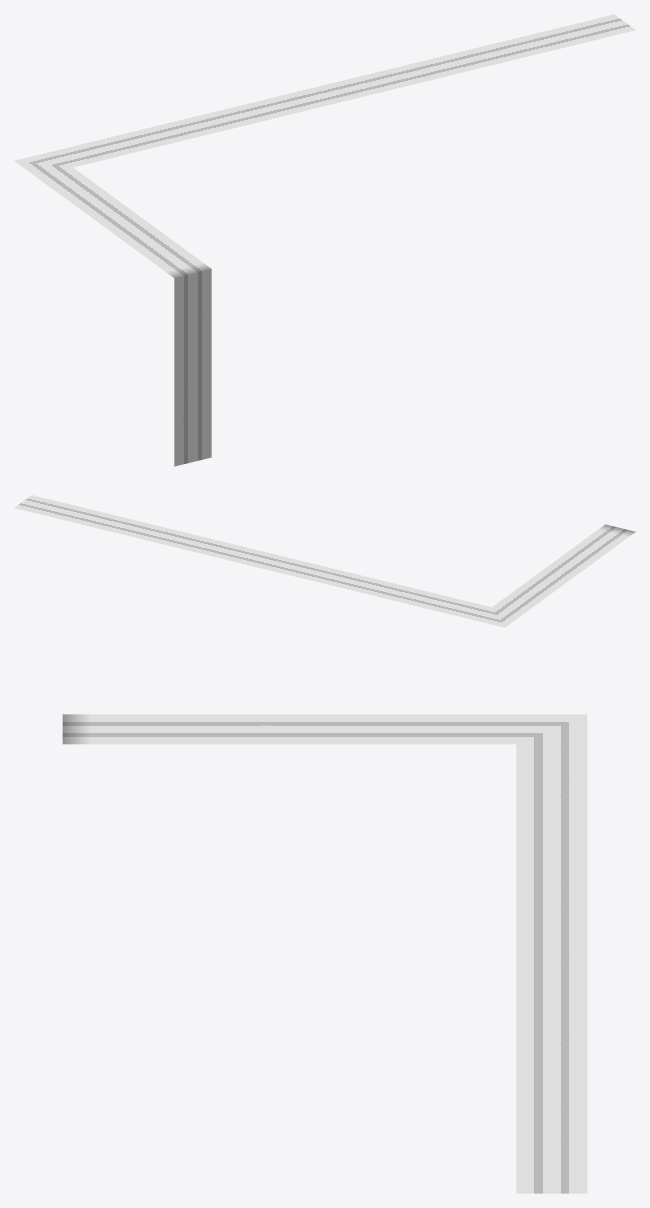
The model's file is hgss-piece-221-mur-bas-ouest.glb.
The picture shows the model from 3 angles, top to bottom: view 1: azimuth 30°, elevation 25°; view 2: azimuth 150°, elevation 25°; view 3: azimuth 270°, elevation 25°; orthographic projection. The views are drawn at different scales.
Size of the model in its own units: 10 by 3 by 4.62.
Materials: 1 (1 with a texture image).
